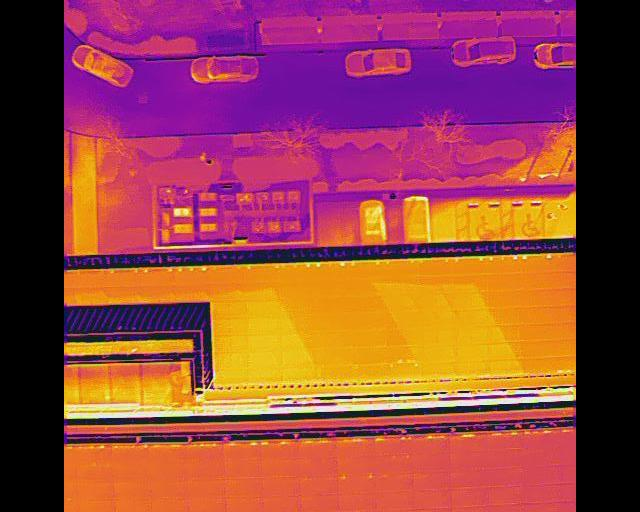Cell-Multi: (75, 444, 114, 463), (224, 442, 262, 461), (338, 472, 375, 491), (524, 430, 561, 449), (112, 444, 149, 463), (261, 441, 296, 460), (375, 437, 410, 454)
No-Anomaly: (75, 459, 113, 481), (148, 478, 189, 498), (487, 466, 527, 486), (412, 469, 450, 490), (75, 477, 114, 497), (488, 447, 527, 467), (224, 457, 261, 478), (412, 451, 450, 471), (376, 488, 414, 508), (449, 467, 487, 487), (488, 484, 528, 503), (149, 462, 188, 481), (298, 456, 337, 475), (336, 454, 375, 473), (300, 493, 338, 512), (261, 474, 299, 493), (188, 460, 224, 480), (299, 475, 339, 493), (262, 494, 302, 512), (451, 486, 487, 506), (114, 479, 150, 499), (525, 464, 560, 484), (527, 446, 562, 466), (339, 492, 377, 510), (376, 454, 412, 473), (113, 462, 151, 480), (189, 495, 228, 512), (187, 480, 226, 497), (225, 477, 261, 495), (450, 451, 485, 469), (260, 458, 297, 475), (414, 489, 451, 506), (527, 482, 560, 501), (227, 496, 266, 512), (377, 473, 412, 490), (78, 497, 117, 512), (413, 437, 449, 453), (488, 432, 524, 448), (114, 498, 154, 512), (150, 498, 189, 512), (527, 501, 560, 512), (488, 504, 526, 512), (451, 505, 487, 512), (414, 508, 451, 512)
Unclassified: (147, 443, 185, 463), (298, 439, 338, 458), (449, 432, 488, 451), (337, 438, 374, 456), (188, 442, 224, 460)
